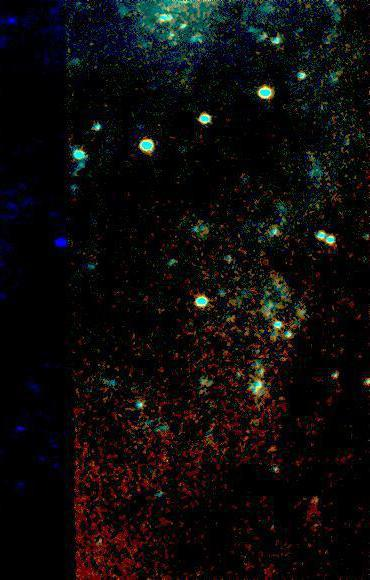star: (267, 432, 297, 462)
